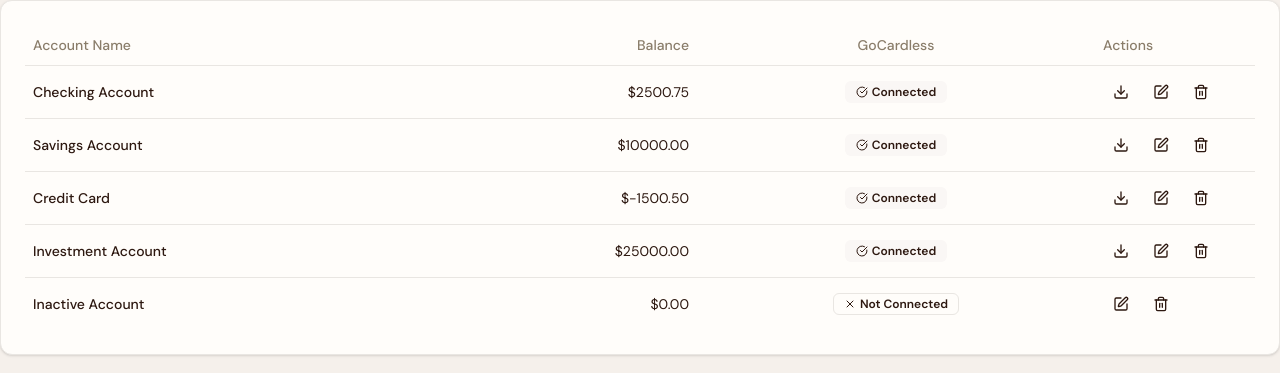
Test: BankAccounts › Import Functionality › should show loading state during import
Step 1. Click the button titled "Import Transactions" in the row of "Checking Account" → {"x": 1121, "y": 92}, box [1103, 74, 1139, 110]
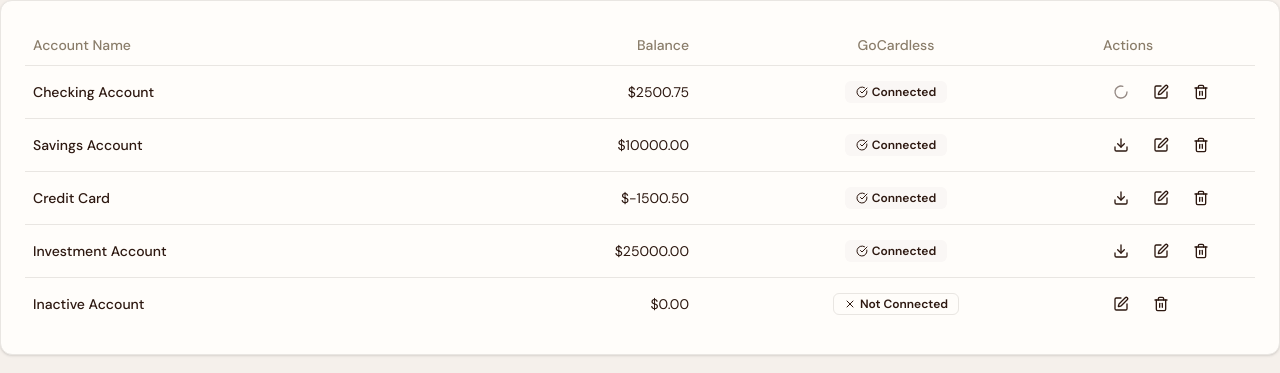
Expected: the button titled "Import Transactions" in the row of "Checking Account" is disabled, [1103, 74, 1139, 110]
